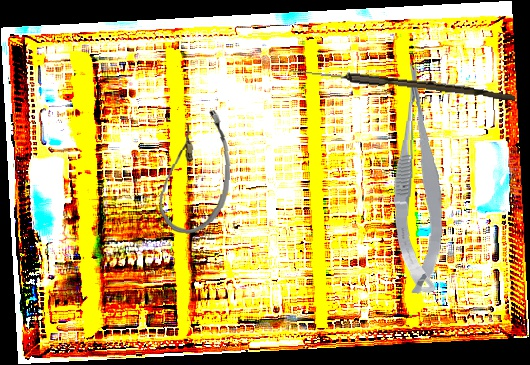Cannula: (156, 106, 235, 237)
Micro Scissor: (387, 62, 453, 295)
Surgical Spoon: (289, 66, 516, 101)
